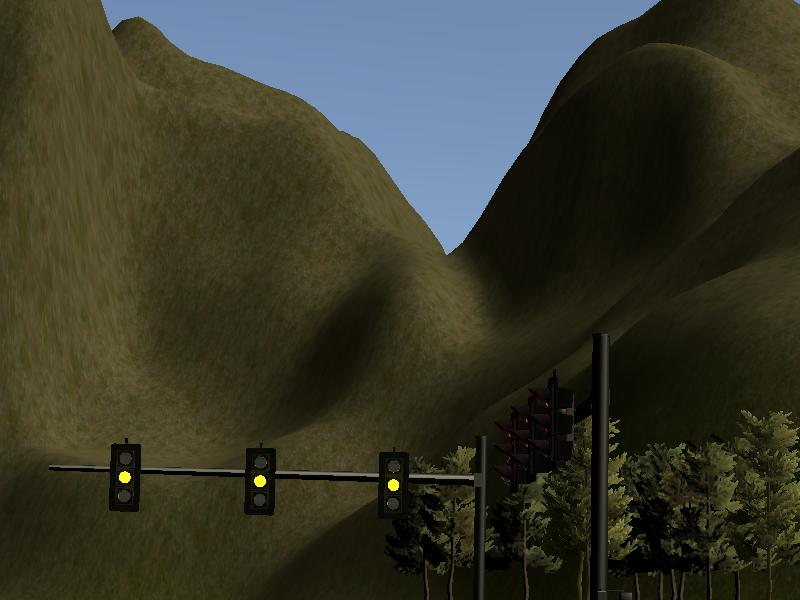yellow: (110, 444, 139, 511), (246, 447, 275, 514), (380, 452, 409, 519)
